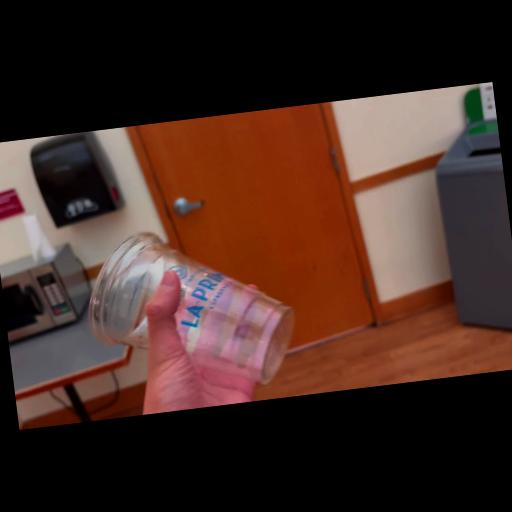lp_plastic_cup: (68, 200, 360, 416)
